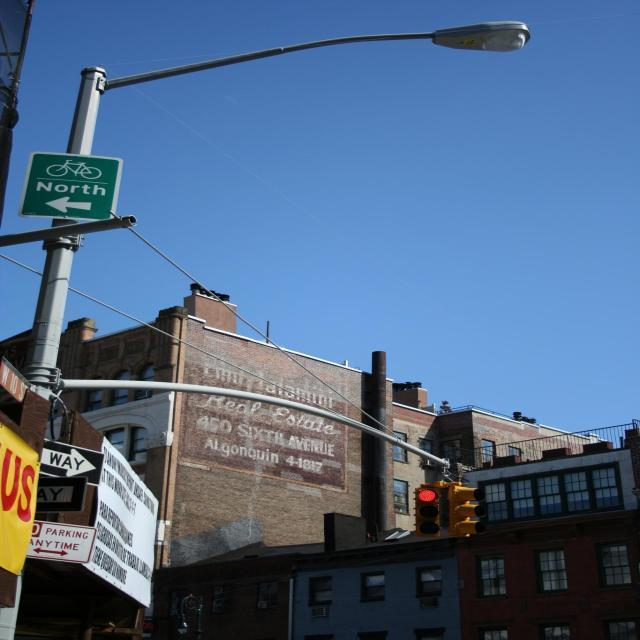off: (350, 5, 596, 88)
